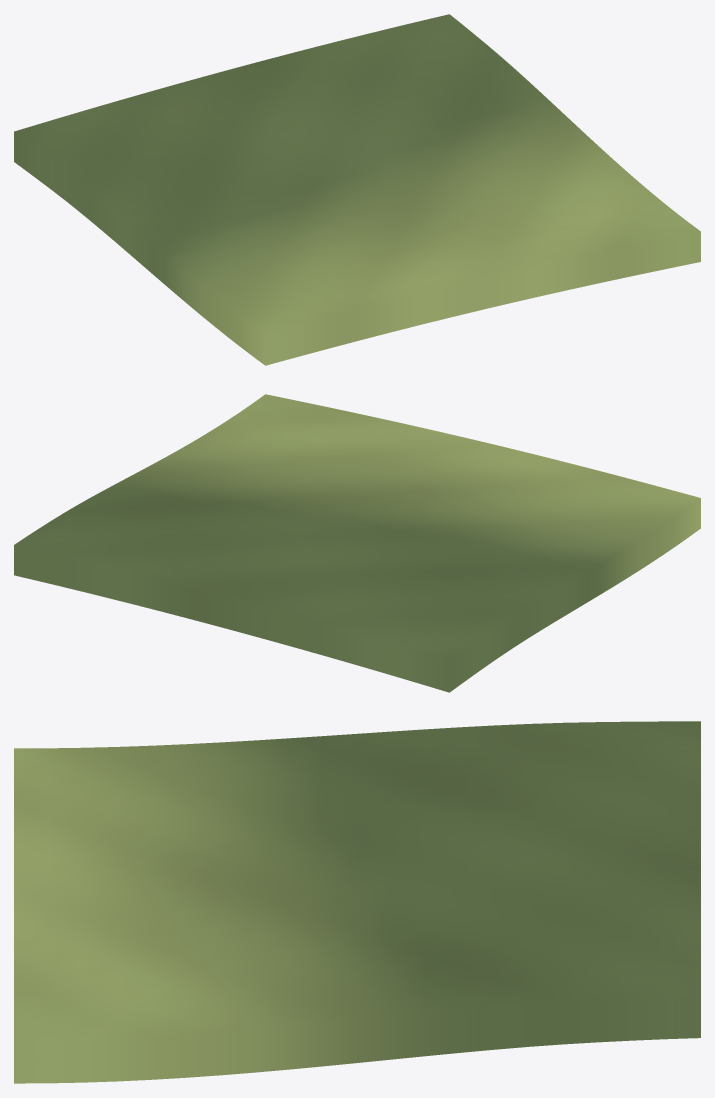
3 views of the same model, one above another, from view 1: azimuth 30°, elevation 25°; view 2: azimuth 150°, elevation 25°; view 3: azimuth 270°, elevation 25° (orthographic). The views are drawn at different scales.
Parts seen in each view (by area): view 1: terrain; view 2: terrain; view 3: terrain.
Part boxes in pixels (x1=…): terrain: x1=14, y1=14, x2=700, y2=365; terrain: x1=14, y1=394, x2=700, y2=692; terrain: x1=14, y1=721, x2=700, y2=1083.
Size of the model in its own units: 30 by 4.21 by 30.
